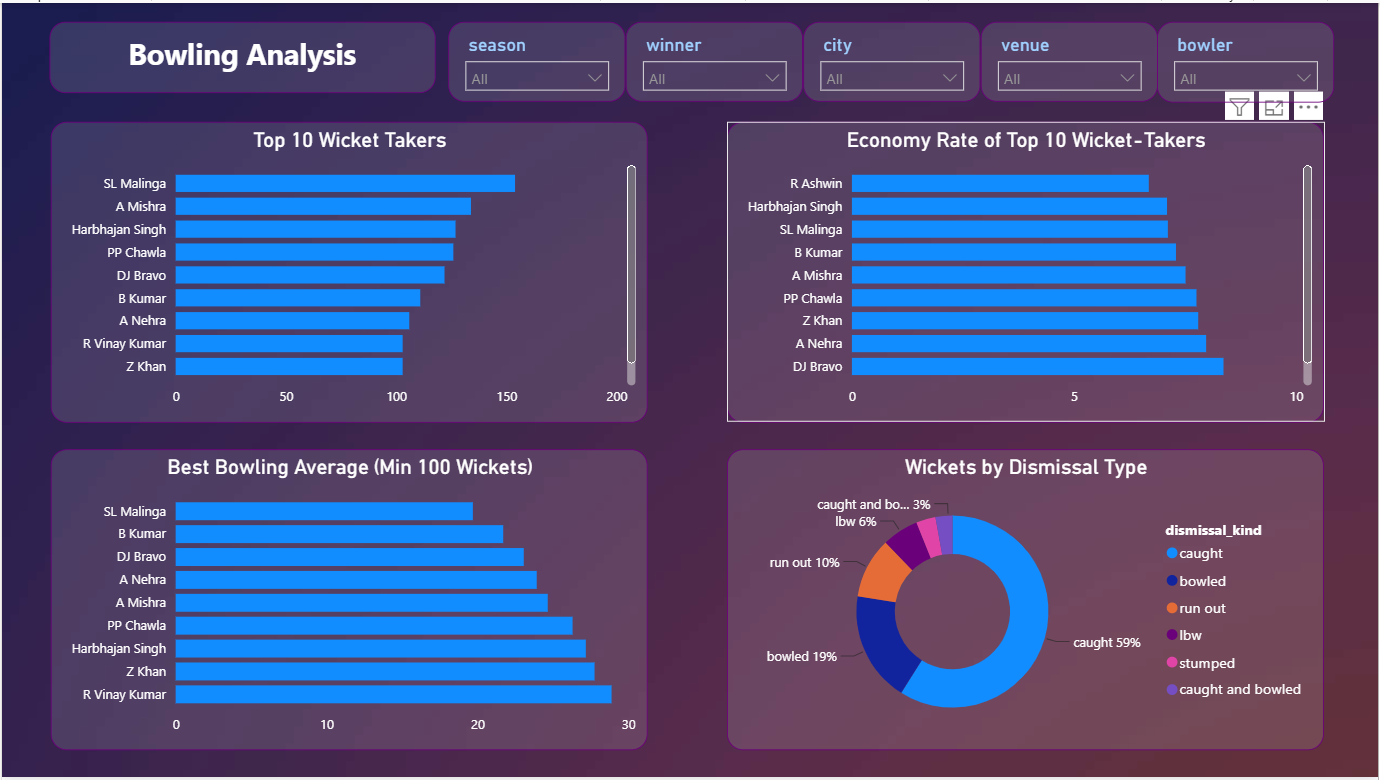

The dashboard page shown, as its layout file describes it:
{"tool":"powerbi","page":{"name":"Bowling Analysis","canvas":[1280,720],"ordinal":2},"visuals":[{"type":"textbox","box":[44.3,17,359,66.4],"z":0},{"type":"clusteredBarChart","title":"Top 10 Wicket Takers","fields":{"Category":["deliveries.bowler"],"Y":["deliveries.Bowler Wickets"]},"box":[45,110,555,280],"z":1000},{"type":"clusteredBarChart","title":"Economy Rate of Top 10 Wicket-Takers","fields":{"Category":["deliveries.bowler"],"Y":["deliveries.Economy Rate"]},"box":[675,110,555,280],"z":2000},{"type":"clusteredBarChart","title":"Best Bowling Average (Min 100 Wickets)","fields":{"Category":["deliveries.bowler"],"Y":["deliveries.Bowling Average"]},"box":[45,415,555,280],"z":3000},{"type":"donutChart","title":"Wickets by Dismissal Type","fields":{"Category":["deliveries.dismissal_kind"],"Y":["deliveries.Total Wickets"]},"box":[675,415,555,280],"z":4000},{"type":"slicer","fields":{"Values":["deliveries.bowler"]},"box":[1075,17,165.1,74.9],"z":5000},{"type":"slicer","title":"Season","fields":{"Values":["matches.season"]},"box":[415,17.1,165,74],"z":6000},{"type":"slicer","title":"Team","fields":{"Values":["matches.winner"]},"box":[580,17,165,74],"z":7000},{"type":"slicer","title":"City","fields":{"Values":["matches.city"]},"box":[745,17,165,74],"z":8000},{"type":"slicer","title":"Venue","fields":{"Values":["matches.venue"]},"box":[910,17,165,74],"z":9000}]}

Visuals, with their boxes in screenshot pixels (x1, y1, x2, y2), scaled from the page's 1280x720 canvas onto the 1380x780 screenshot:
textbox: bbox=[48, 18, 435, 90]
"Top 10 Wicket Takers" clusteredBarChart: bbox=[49, 119, 647, 422]
"Economy Rate of Top 10 Wicket-Takers" clusteredBarChart: bbox=[728, 119, 1326, 422]
"Best Bowling Average (Min 100 Wickets)" clusteredBarChart: bbox=[49, 450, 647, 753]
"Wickets by Dismissal Type" donutChart: bbox=[728, 450, 1326, 753]
slicer - deliveries.bowler: bbox=[1159, 18, 1337, 100]
"Season" slicer: bbox=[447, 19, 625, 99]
"Team" slicer: bbox=[625, 18, 803, 99]
"City" slicer: bbox=[803, 18, 981, 99]
"Venue" slicer: bbox=[981, 18, 1159, 99]
